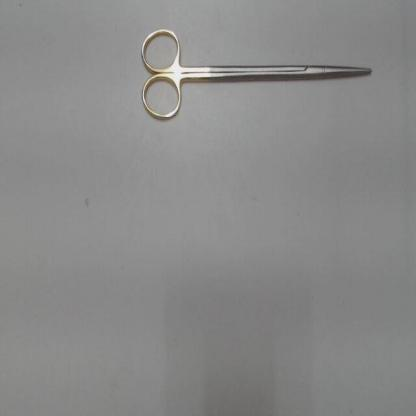7 Metzenbaum Scissors: (138, 22, 374, 126)
